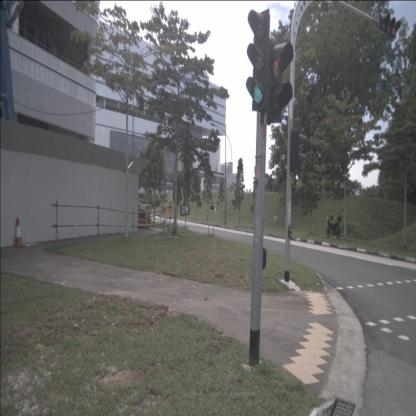movable_object-trafficcone: (12, 217, 26, 248)
vehicle-motorcycle: (326, 214, 342, 239)
